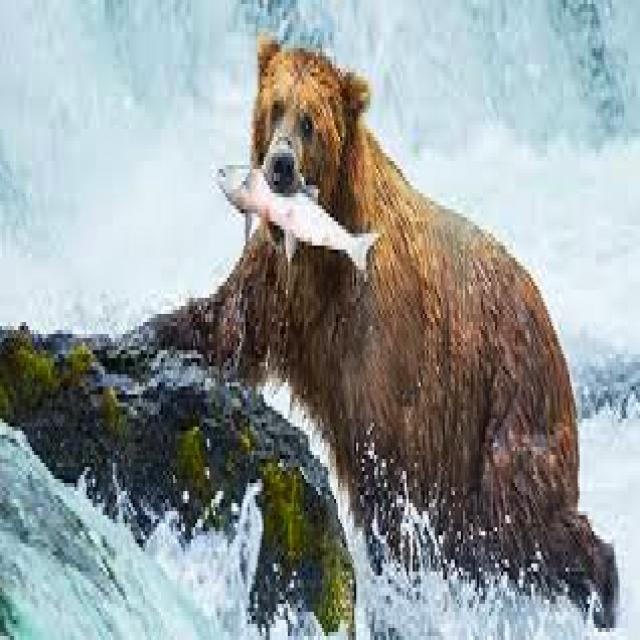bear: (155, 36, 612, 624)
